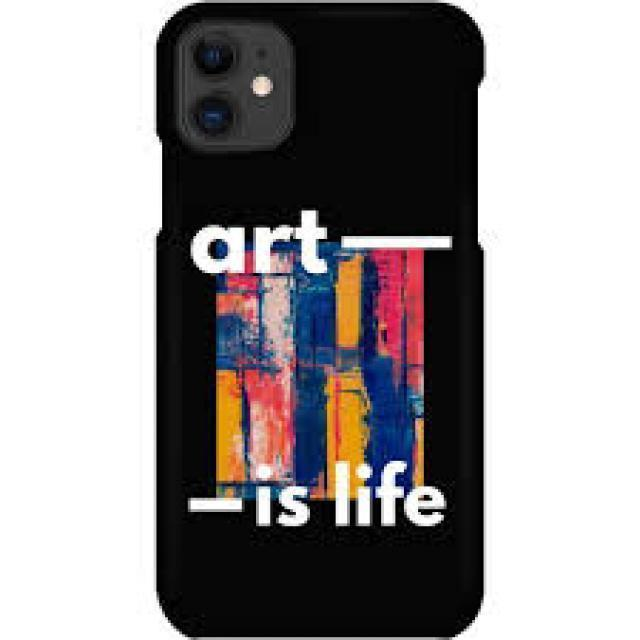lens: (182, 23, 293, 147)
phone: (141, 4, 490, 639)
